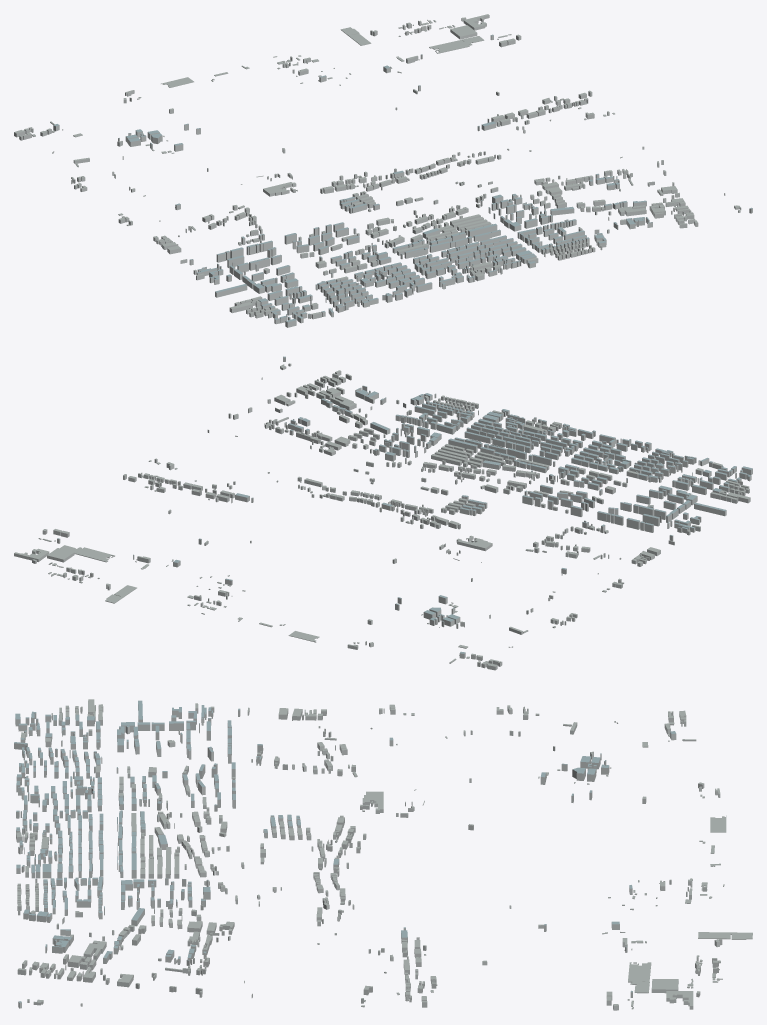
File: far.glb
3 views of the same model, one above another, from view 1: azimuth 30°, elevation 25°; view 2: azimuth 150°, elevation 25°; view 3: azimuth 270°, elevation 25° (orthographic). The views are drawn at different scales.
Bounding box in the file's own units: 2146 × 34.3 × 2188.
